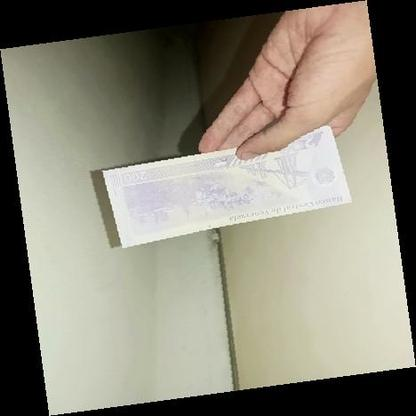two_hundred-back-vef: (102, 124, 352, 249)
